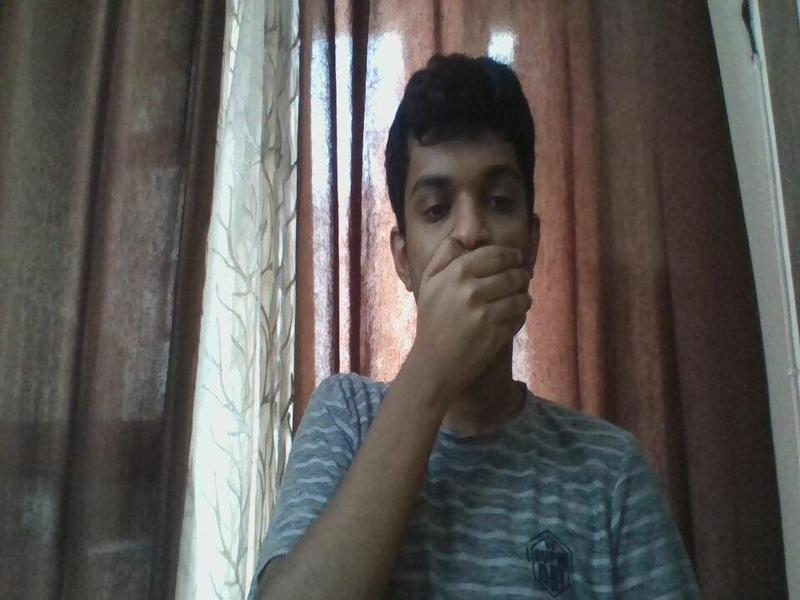without_mask: (399, 131, 531, 355)
